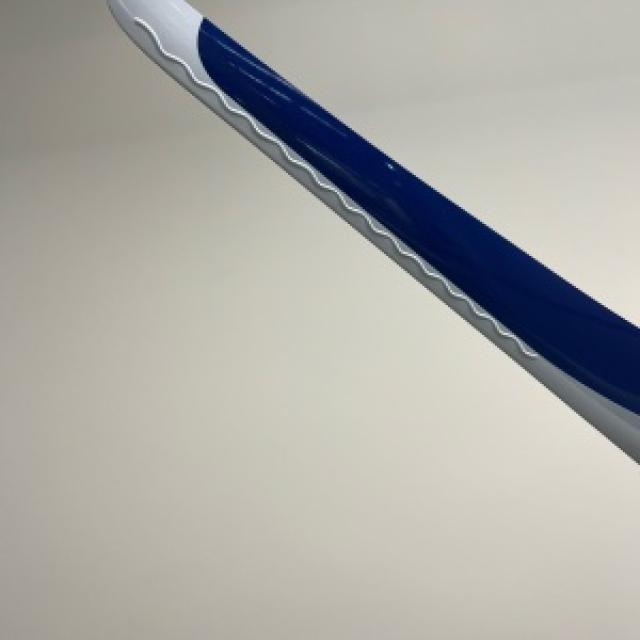healthy: (109, 0, 638, 461)
